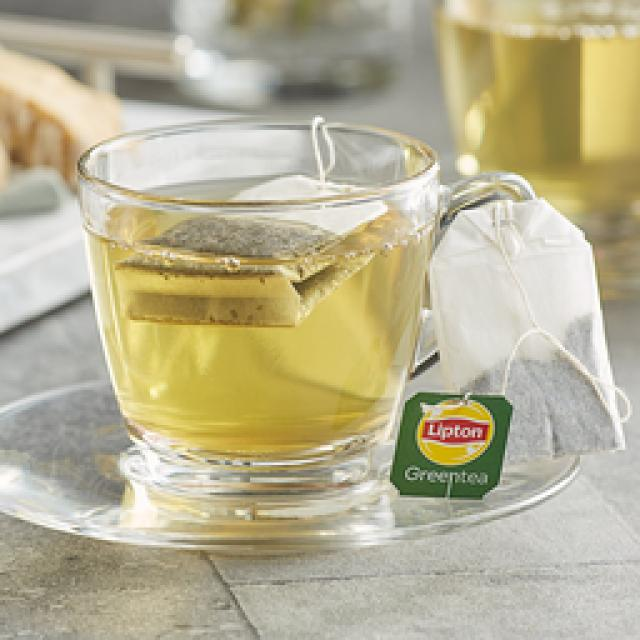tea-bags: (391, 200, 625, 498), (115, 200, 405, 326), (230, 175, 364, 204)
